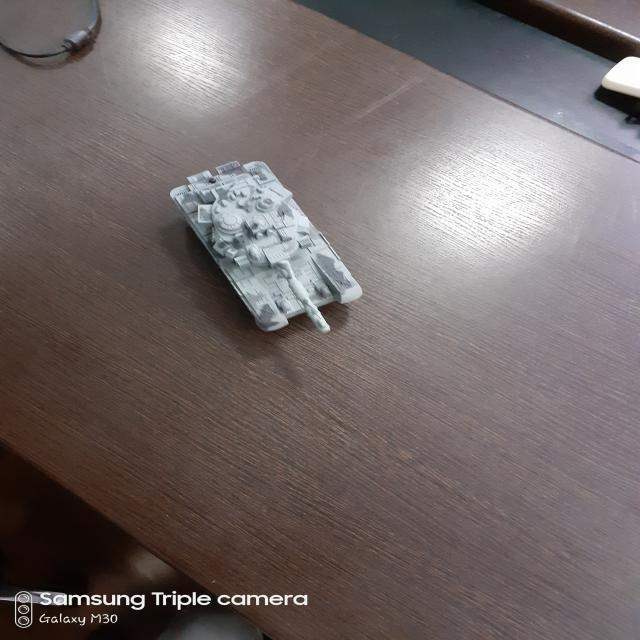Tanks: (170, 159, 364, 333)
